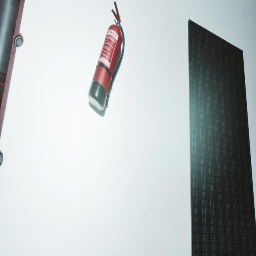FireExtinguisher ]: (88, 1, 125, 111)
